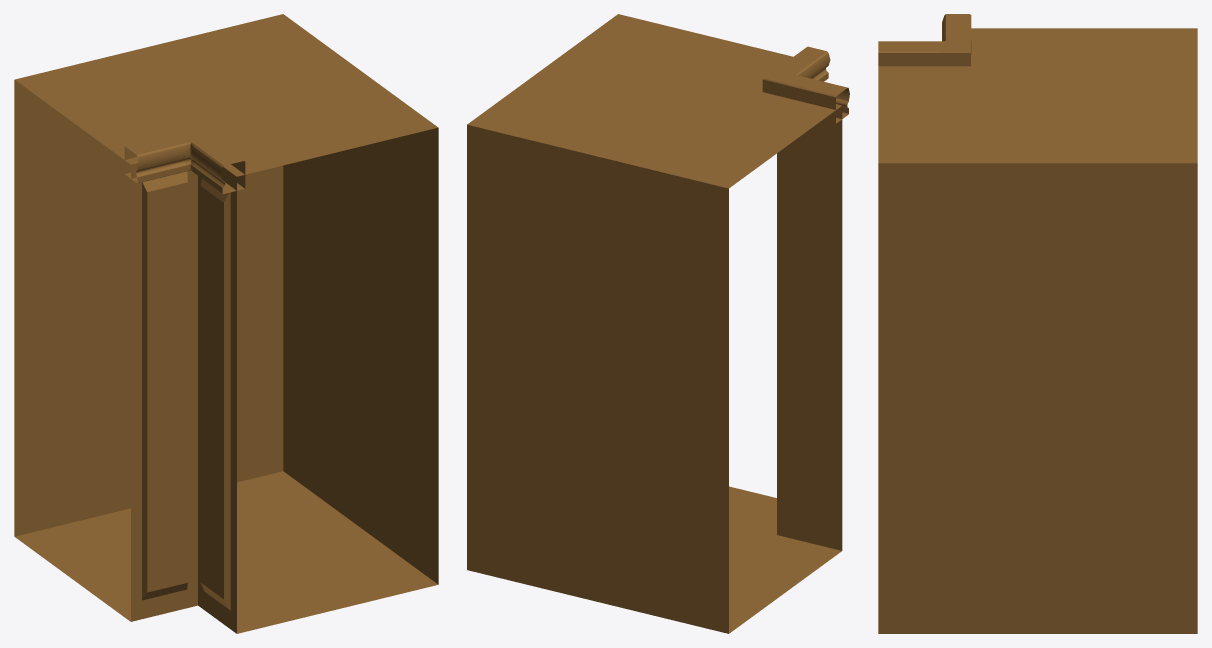
Rendered from Cabinet_Corner.fbx.
The picture shows the model from 3 angles, left to right: view 1: azimuth 30°, elevation 25°; view 2: azimuth 150°, elevation 25°; view 3: azimuth 270°, elevation 25°; orthographic projection. The views are drawn at different scales.
Visible parts, largest first — view 1: Cabinet_Corner; view 2: Cabinet_Corner; view 3: Cabinet_Corner.
Boxes of the visible parts, x1,y1,x2,y2 form: Cabinet_Corner: (14, 14, 438, 633); Cabinet_Corner: (467, 14, 849, 633); Cabinet_Corner: (878, 14, 1197, 633).
Bounding box in the file's own units: 1 × 1.68 × 1.
